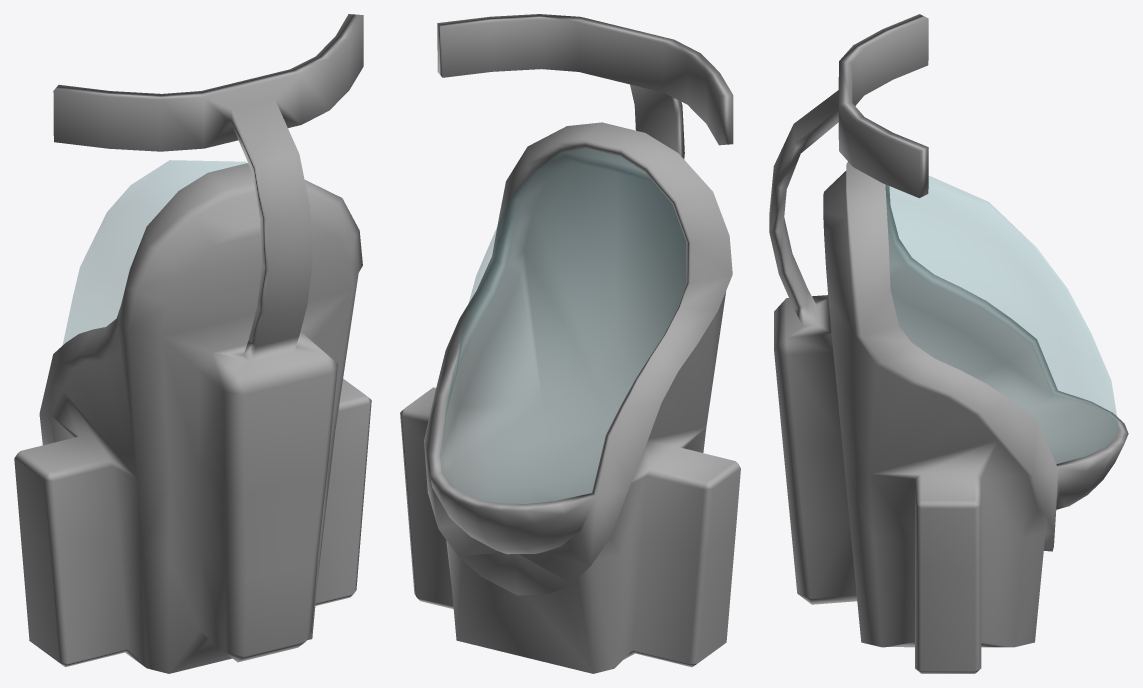
Rendered from jUKE tEST.fbx.
3 views of the same model, side by side, from view 1: azimuth 30°, elevation 25°; view 2: azimuth 150°, elevation 25°; view 3: azimuth 270°, elevation 25° (orthographic). The views are drawn at different scales.
Visible parts, largest first — view 1: pCube1, pPlane1; view 2: pCube1, pPlane1; view 3: pCube1, pPlane1.
Part boxes in pixels (box(x1,y1,x2,y2)): pCube1: box(14, 14, 371, 673); pPlane1: box(63, 160, 246, 344); pCube1: box(400, 14, 740, 673); pPlane1: box(440, 148, 685, 503); pCube1: box(769, 14, 1128, 673); pPlane1: box(886, 176, 1118, 463).
Bounding box in the file's own units: 169 × 287 × 176.
